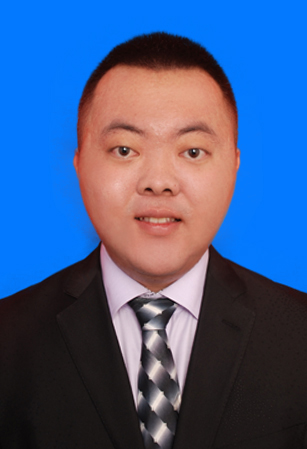unmask: (88, 67, 221, 267)
